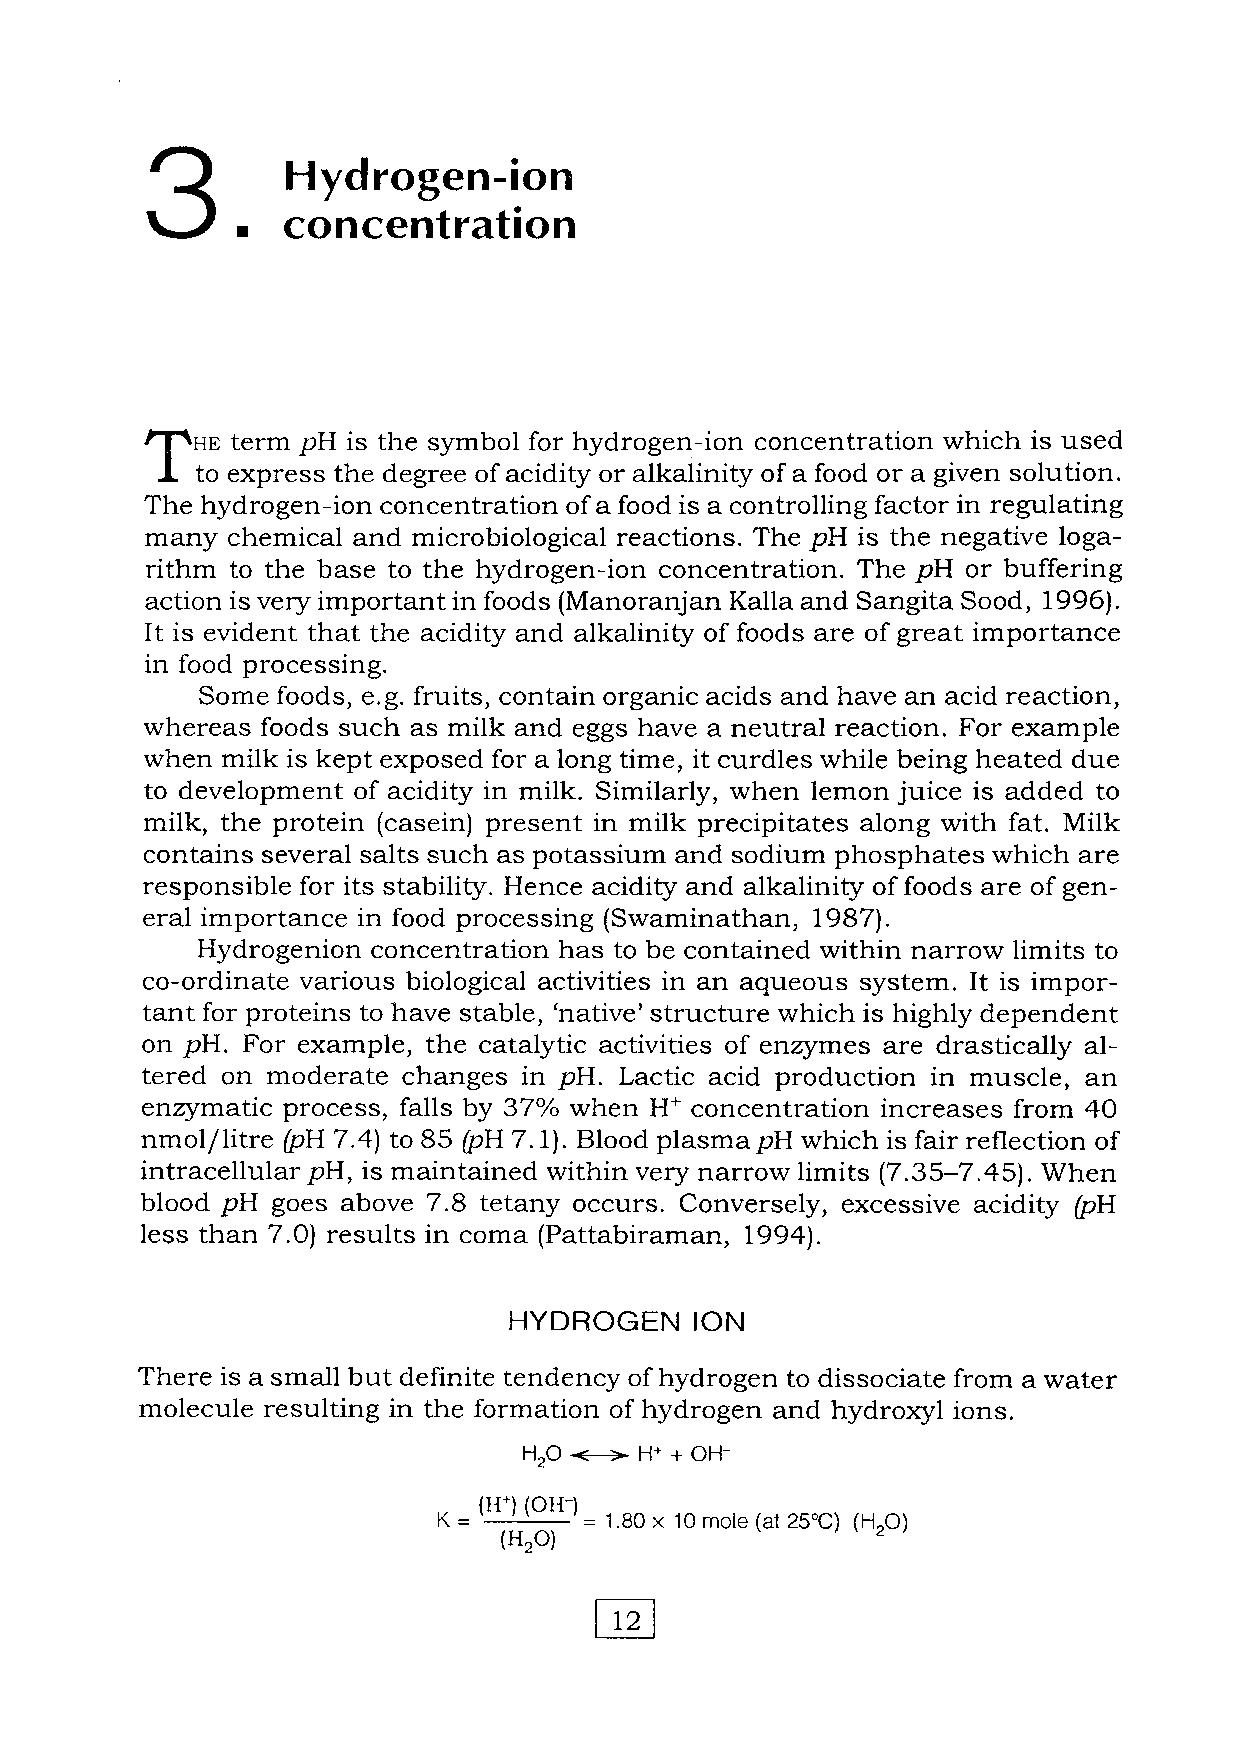chapter: (145, 144, 577, 242), (505, 1306, 747, 1339)
content: (140, 424, 1125, 1255), (136, 1363, 1121, 1558)
content_pagenumber: (609, 1608, 640, 1635)
